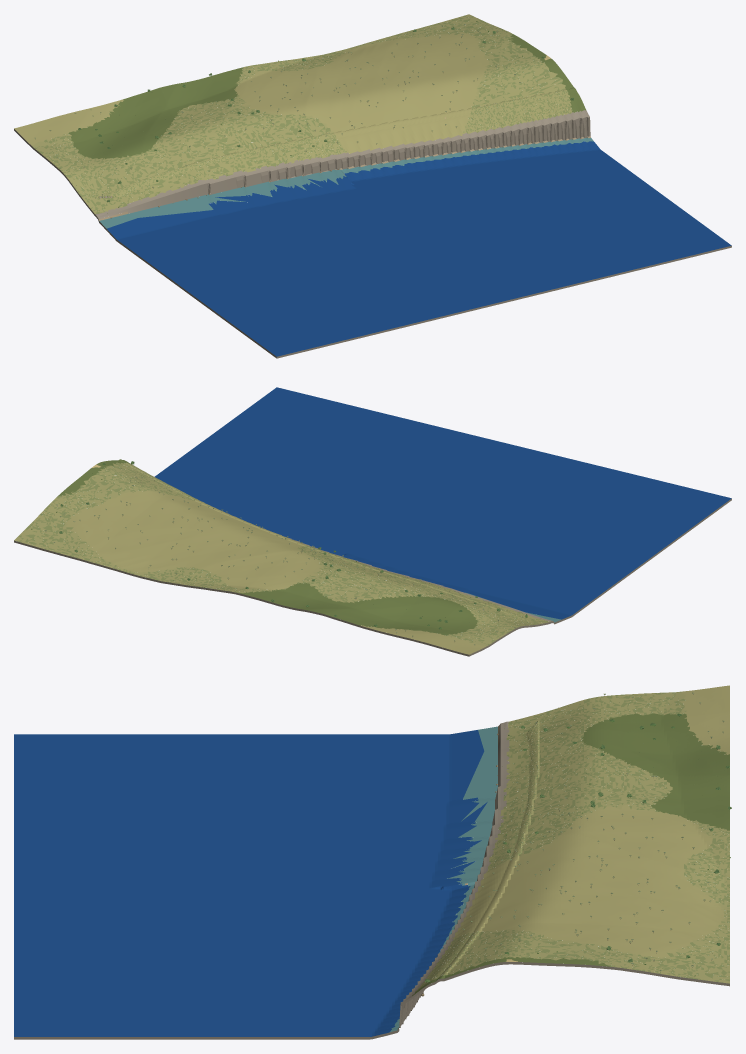
The model's file is parca_+0_-9-yakin.glb.
The picture shows the model from 3 angles, top to bottom: view 1: azimuth 30°, elevation 25°; view 2: azimuth 150°, elevation 25°; view 3: azimuth 270°, elevation 25°; orthographic projection. The views are drawn at different scales.
Parts seen in each view (by area): view 1: parca_+0_-9_arazi, parca_+0_-9_bitkiler; view 2: parca_+0_-9_arazi, parca_+0_-9_bitkiler; view 3: parca_+0_-9_arazi, parca_+0_-9_bitkiler.
Part boxes in pixels (x1,y1,x2,y2): parca_+0_-9_arazi: (14, 14, 731, 358); parca_+0_-9_bitkiler: (34, 21, 574, 213); parca_+0_-9_arazi: (14, 387, 731, 656); parca_+0_-9_bitkiler: (31, 461, 527, 645); parca_+0_-9_arazi: (14, 685, 729, 1039); parca_+0_-9_bitkiler: (424, 692, 731, 982).
Bounding box in the file's own units: 1001 × 126 × 1003.
